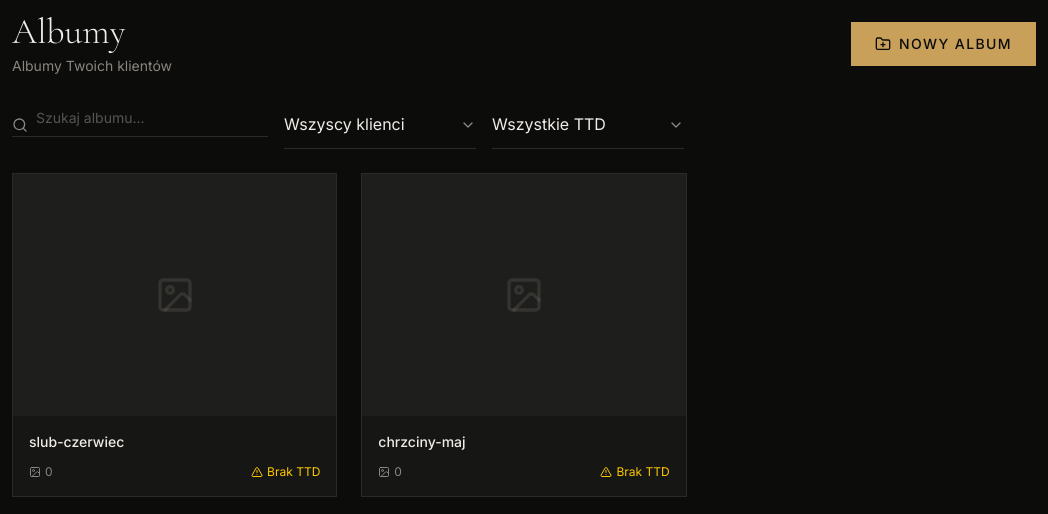
Test case: PhotographerAlbums › Search matches the album name, so a long client list can still be narrowed by typing
Check: the heading "slub-czerwiec" is shown, box [29,434,124,450]
Type "chrzc" into the field with placeholder "Szukaj albumu..." at (140, 118), box [12,100,268,137]
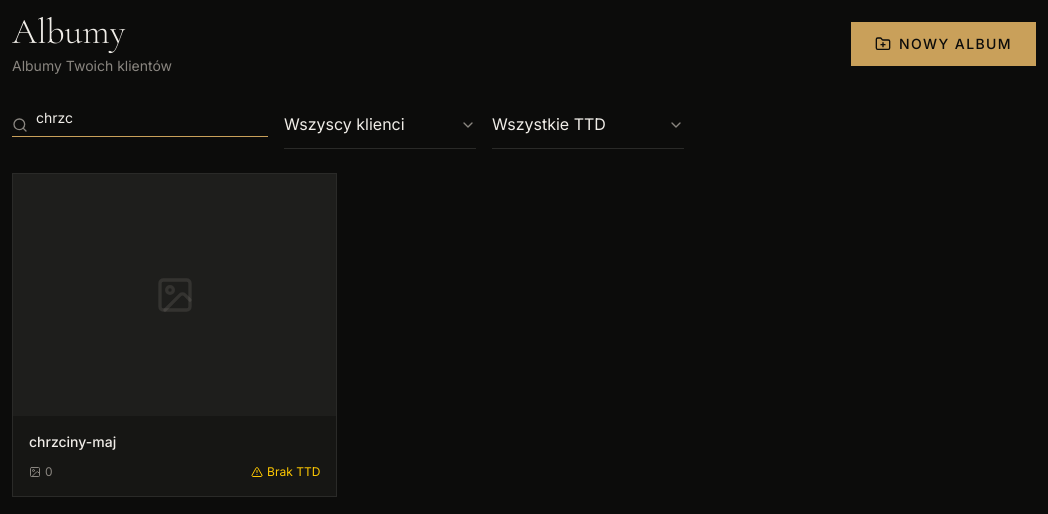
Check: the heading "chrzciny-maj" is shown, box [29,434,116,450]
Check: the link "slub-czerwiec" is gone
